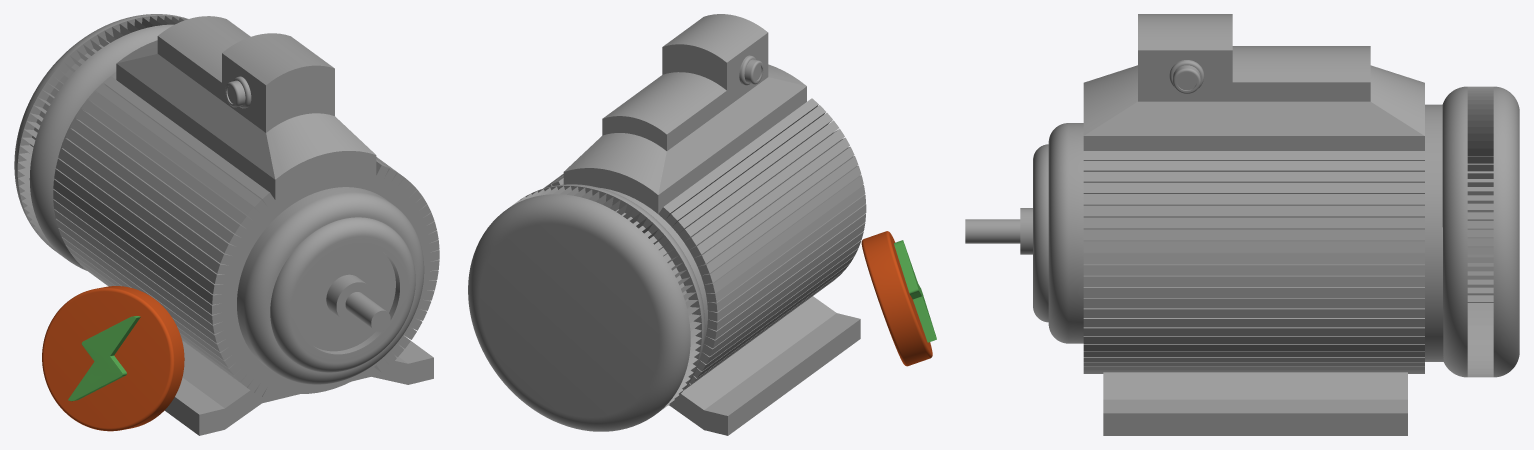
The model's file is 3d-electric-motor.glb.
3 renders of one model, left to right at view 1: azimuth 30°, elevation 25°; view 2: azimuth 150°, elevation 25°; view 3: azimuth 270°, elevation 25°, orthographic. The views are drawn at different scales.
Parts seen in each view (by area): view 1: Cylinder, Cylinder.002, Cylinder.008, Cylinder.006, Cylinder.001, Cube, Cube.004, Cylinder.007, Cylinder.003, Cylinder.005; view 2: Cylinder, Cylinder.006, Cube, Cylinder.008, Cube.004; view 3: Cylinder, Cylinder.006, Cube, Cylinder.001, Cylinder.002, Cylinder.003, Cylinder.005, Cylinder.007.
Boxes of the visible parts, x1,y1,x2,y2 form: Cylinder: [53, 16, 439, 399]; Cylinder.002: [270, 217, 415, 372]; Cylinder.008: [42, 286, 184, 431]; Cylinder.006: [14, 14, 187, 270]; Cylinder.001: [237, 187, 424, 384]; Cube: [57, 311, 433, 435]; Cube.004: [68, 316, 140, 401]; Cylinder.007: [326, 274, 374, 322]; Cylinder.003: [345, 292, 390, 331]; Cylinder.005: [225, 80, 245, 107]; Cylinder: [543, 14, 866, 389]; Cylinder.006: [468, 184, 705, 431]; Cube: [669, 296, 860, 435]; Cylinder.008: [861, 231, 932, 366]; Cube.004: [894, 240, 936, 342]; Cylinder: [1083, 14, 1443, 373]; Cylinder.006: [1442, 86, 1519, 377]; Cube: [1103, 372, 1407, 435]; Cylinder.001: [1048, 123, 1083, 343]; Cylinder.002: [1033, 144, 1048, 322]; Cylinder.003: [965, 219, 1020, 243]; Cylinder.005: [1173, 65, 1200, 93]; Cylinder.007: [1020, 208, 1032, 254].
Bounding box in the file's own units: 0.3739 × 0.3388 × 0.4833.
